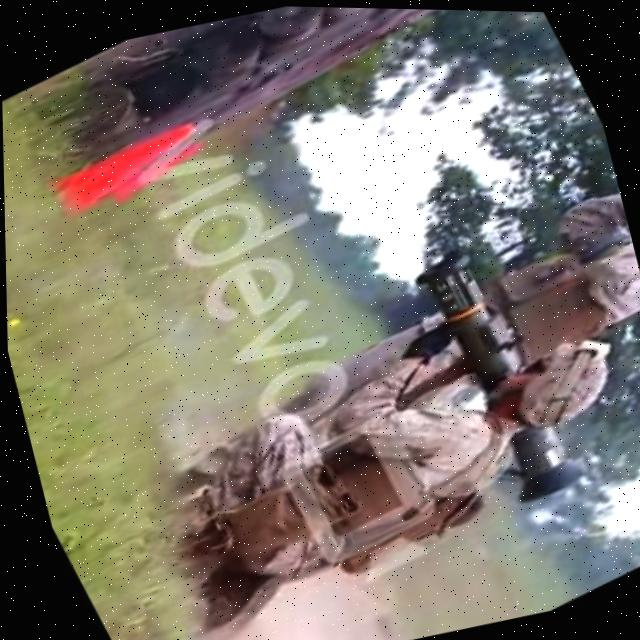rocket: (401, 224, 599, 514)
